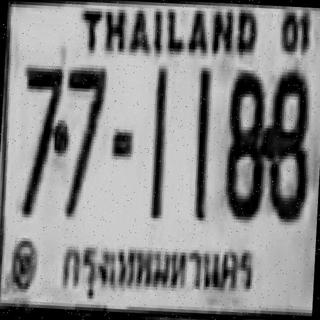N01: (190, 66, 211, 219), (148, 64, 168, 217)
N07: (15, 62, 66, 216), (60, 62, 106, 217)
N08: (262, 66, 312, 220), (222, 69, 268, 218)
P04: (57, 232, 258, 298)
